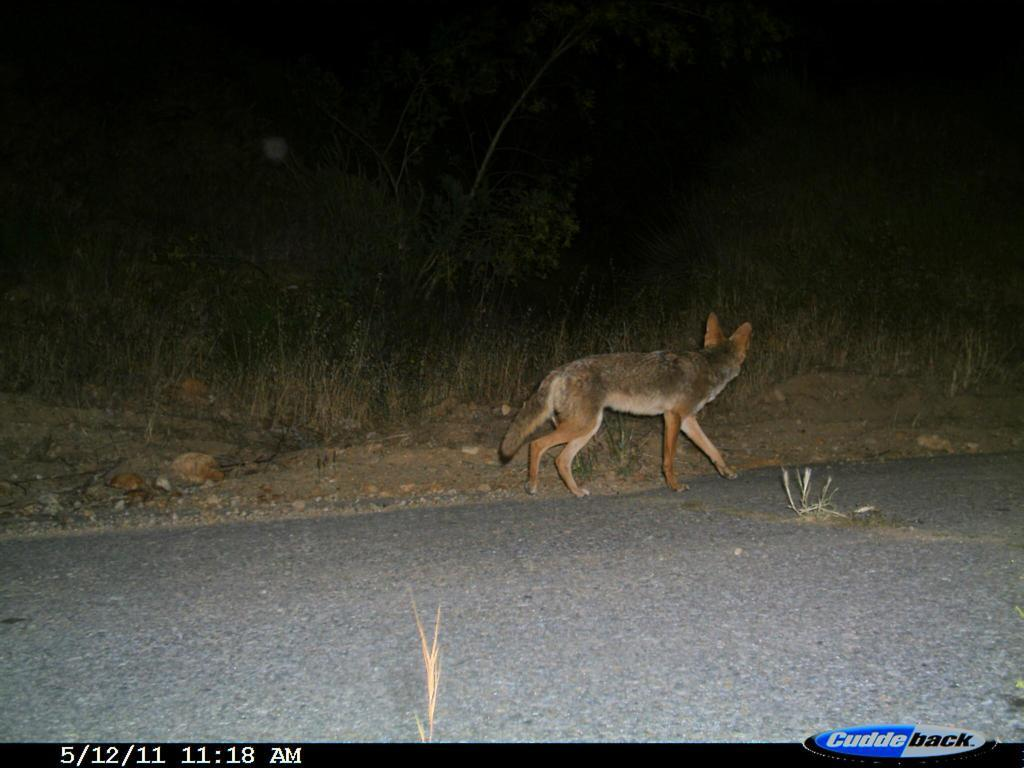coyote: (491, 305, 758, 505)
